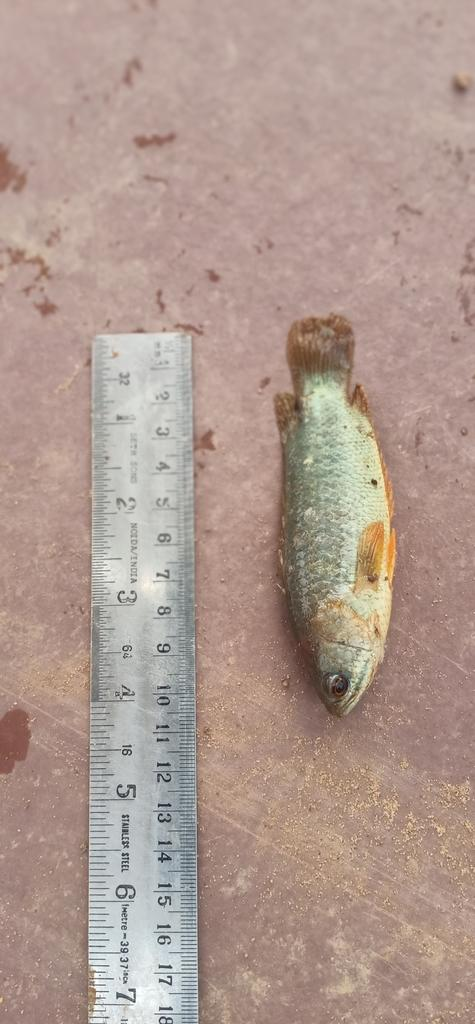Climbing Perch: (273, 315, 400, 722)
